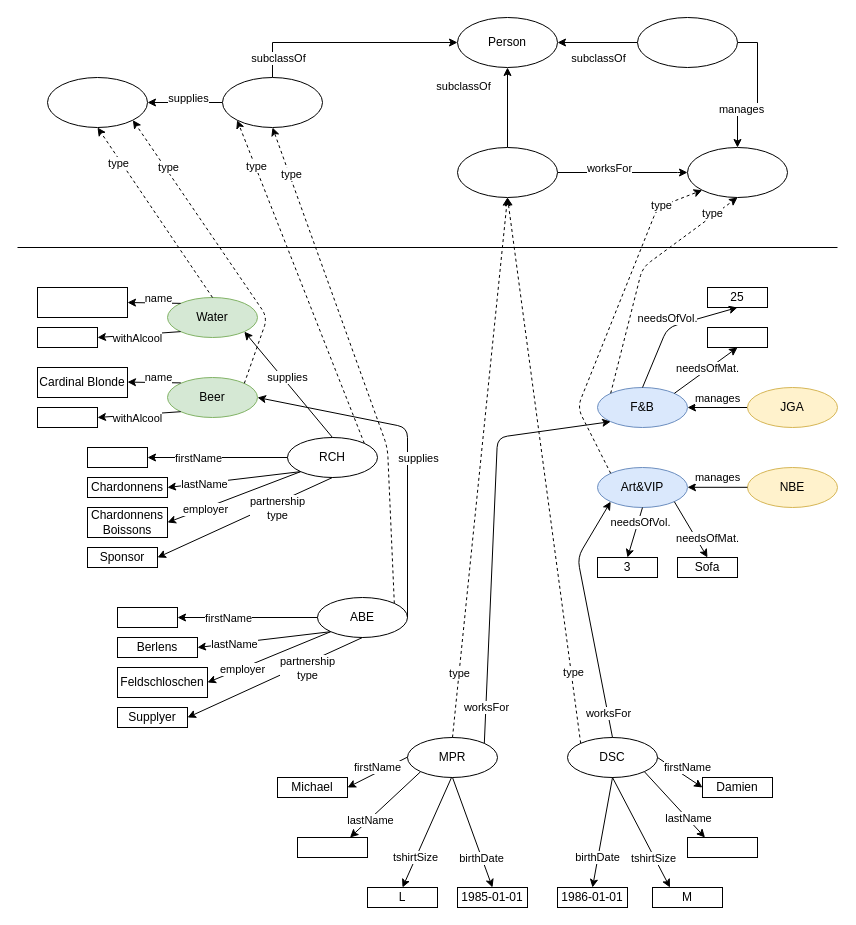
The diagram is 856 pixels wide and 925 high, and some of its shapes have lost their labels. The shapes that lost their labels are listed below. From the top down, each one's centre as x and y in pixels, then its label:
(x=687, y=42): Organizer
(x=97, y=102): Beverage
(x=272, y=102): Partner
(x=507, y=172): Volunteer
(x=737, y=172): Dicastery
(x=82, y=302): Valser Classic
(x=67, y=337): FALSE
(x=737, y=337): Truck
(x=67, y=417): TRUE
(x=117, y=457): Richard
(x=147, y=617): Alain
(x=332, y=847): Premo
(x=722, y=847): Scheurer
